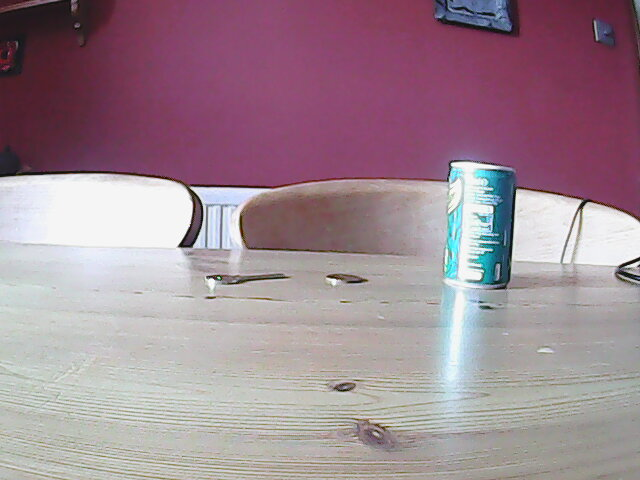Can: (441, 157, 518, 293)
Coin: (325, 270, 363, 289)
Key: (200, 270, 288, 287)
